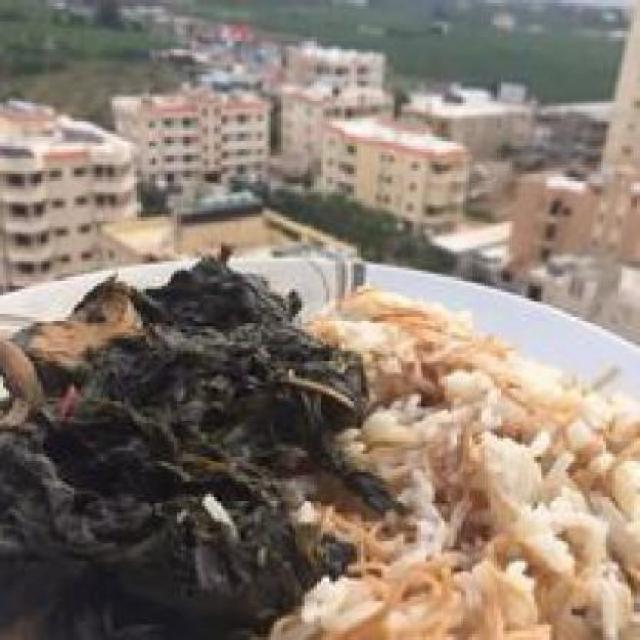fried rice: (305, 273, 637, 638)
